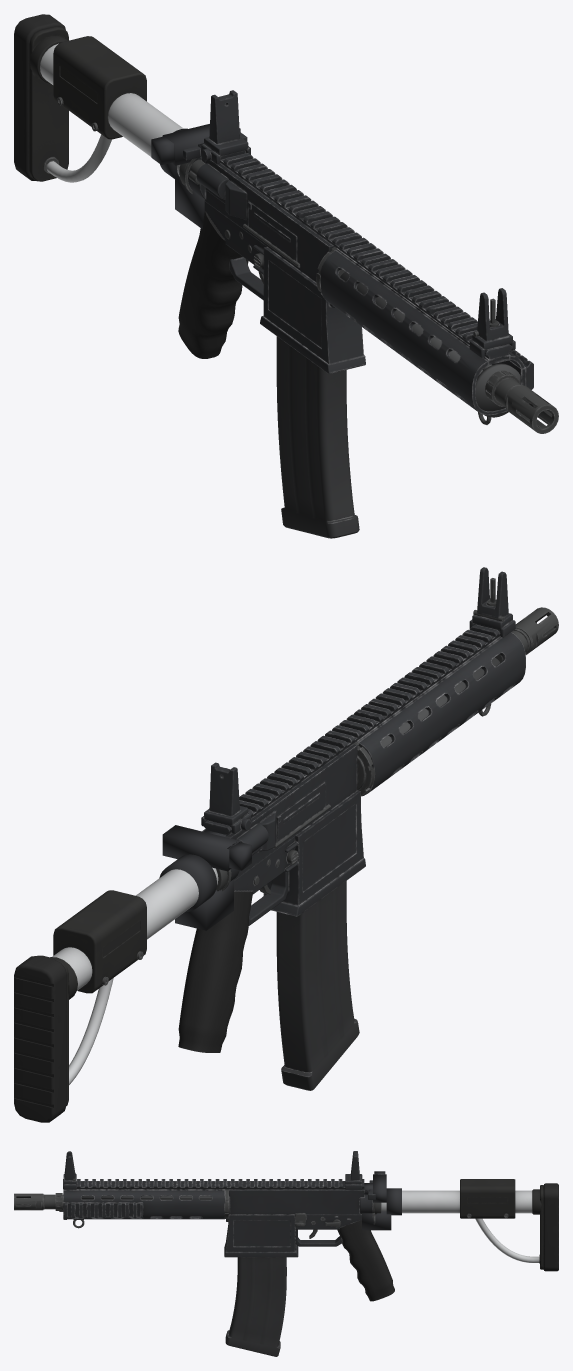
The model's file is CarbineRifle.glb.
3 renders of one model, top to bottom at view 1: azimuth 30°, elevation 25°; view 2: azimuth 150°, elevation 25°; view 3: azimuth 270°, elevation 25°, orthographic. The views are drawn at different scales.
Visible parts, largest first — view 1: Body, Magazine; view 2: Body, Magazine; view 3: Body, Magazine.
Part boxes in pixels (x1=…): Body: x1=14, y1=14, x2=558, y2=433; Magazine: x1=276, y1=336, x2=359, y2=538; Body: x1=14, y1=567, x2=558, y2=1122; Magazine: x1=276, y1=881, x2=359, y2=1090; Body: x1=14, y1=1151, x2=558, y2=1301; Magazine: x1=225, y1=1257, x2=286, y2=1356.
Size of the model in its own units: 0.234 by 1.03 by 2.55.
Materials: 2 (2 with a texture image).
